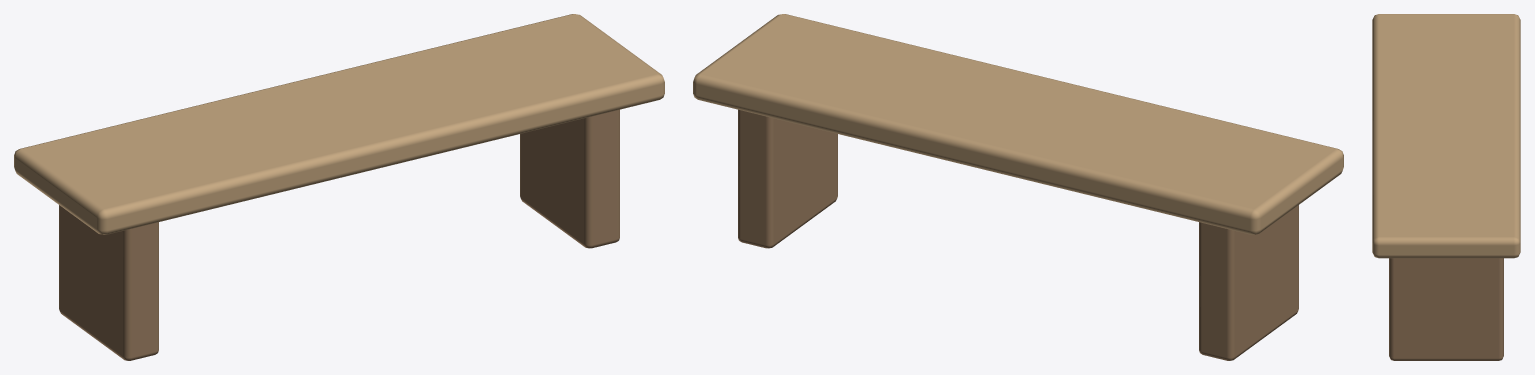
File: bench.glb
3 views of the same model, side by side, from view 1: azimuth 30°, elevation 25°; view 2: azimuth 150°, elevation 25°; view 3: azimuth 270°, elevation 25° (orthographic). The views are drawn at different scales.
Visible parts, largest first — view 1: seat, leg-1, leg1; view 2: seat, leg-1, leg1; view 3: seat, leg1.
Part boxes in pixels (<box>): seat: <box>14,14,664,234</box>; leg-1: <box>59,205,158,360</box>; leg1: <box>520,109,619,248</box>; seat: <box>693,14,1343,234</box>; leg-1: <box>1199,205,1298,360</box>; leg1: <box>738,109,837,248</box>; seat: <box>1372,14,1520,258</box>; leg1: <box>1389,258,1503,360</box>.
Size of the model in its own units: 1.6 by 0.45 by 0.44.
